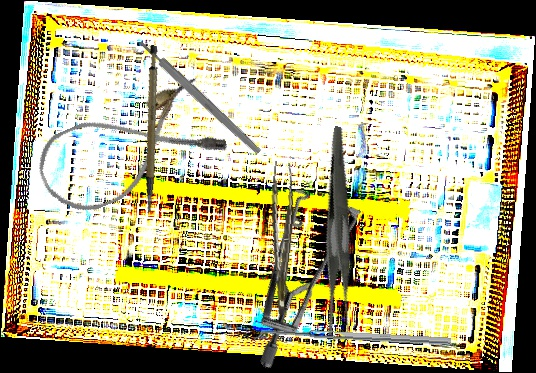Cannula: (27, 74, 231, 225)
Dressing Forceps: (273, 125, 408, 341)
Scalpel Handle: (137, 38, 263, 156), (119, 44, 181, 214)
Spatula Surgical: (254, 327, 451, 353)
Speculum: (190, 165, 404, 371)
Tissue Forceps: (259, 161, 300, 315)
